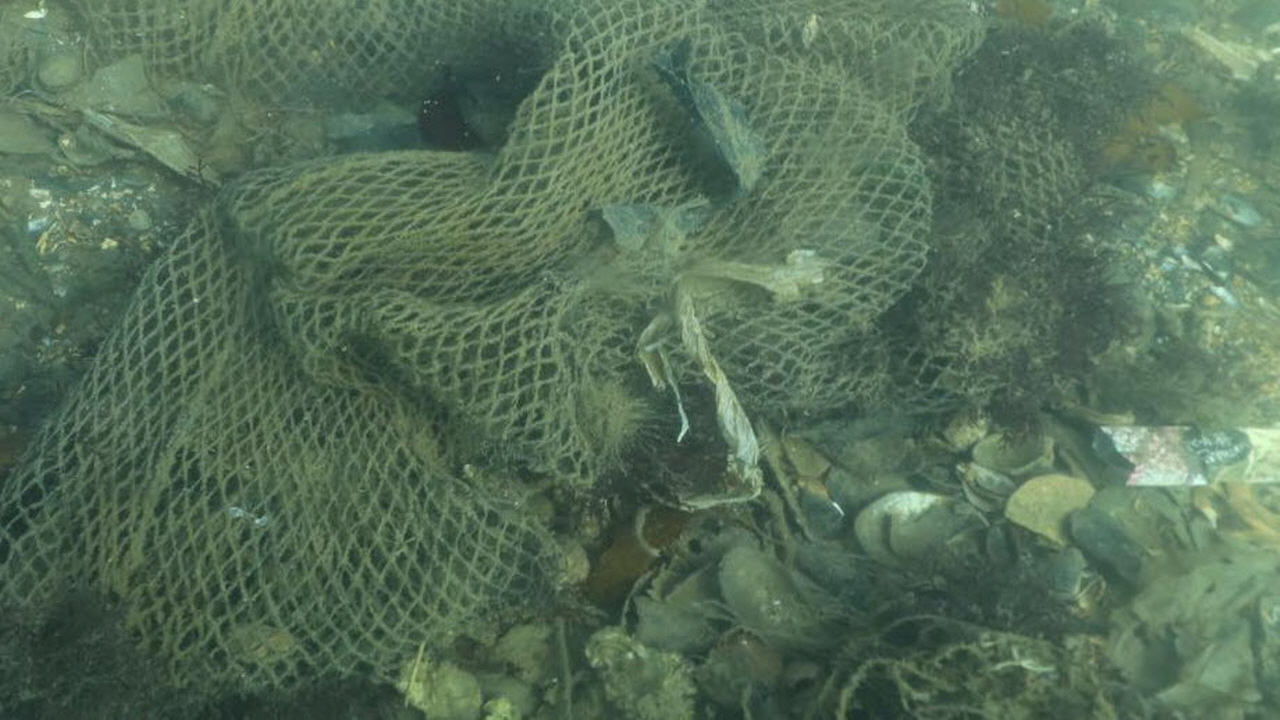fish net: (0, 0, 1079, 687)
